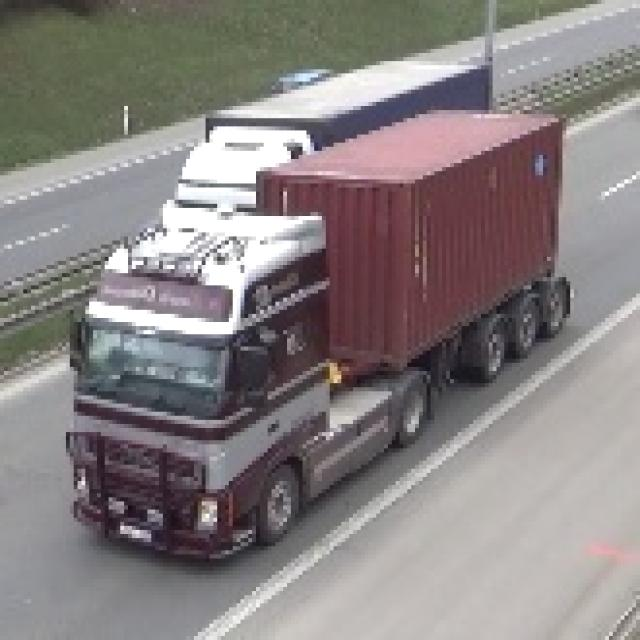TRUCK: (61, 117, 570, 570)
